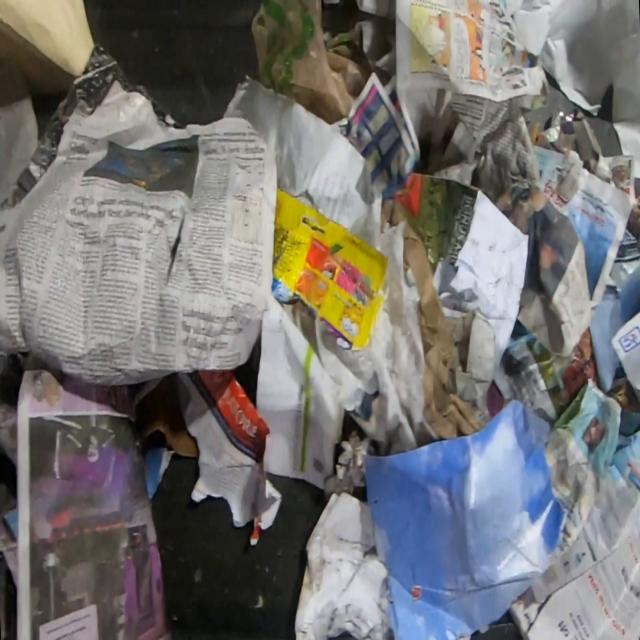cardboard: (402, 222, 497, 447)
soft_plastic: (271, 187, 390, 352), (250, 1, 369, 124)
